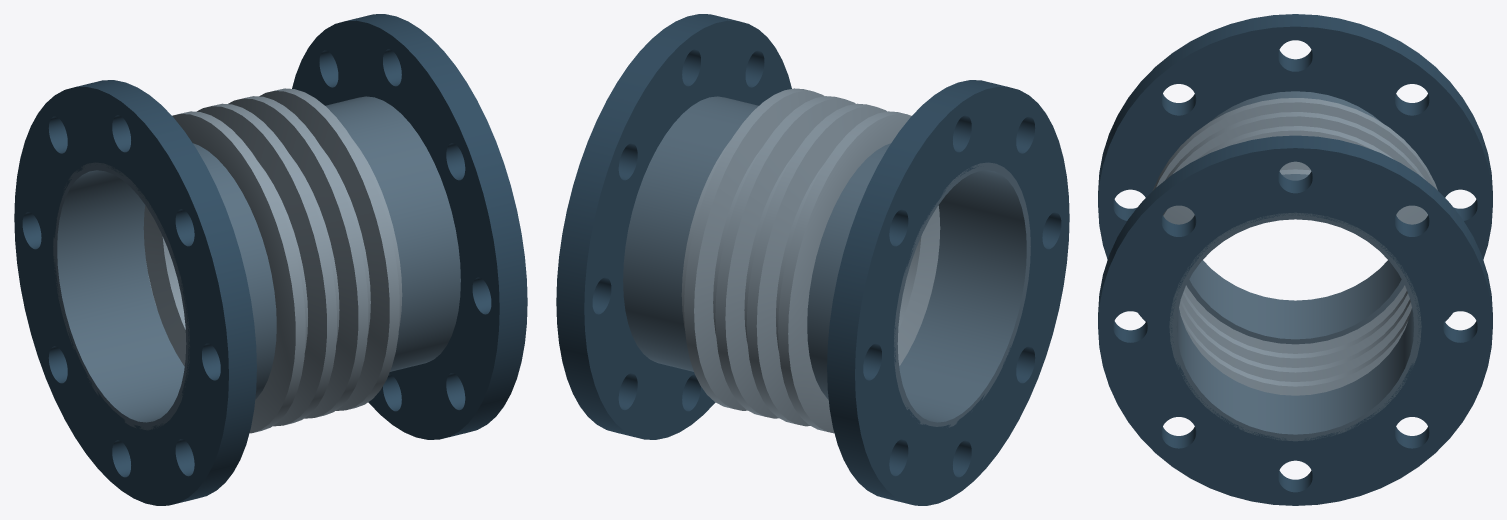
The model's file is flan-dn150-L200-D159-f.glb.
The picture shows the model from 3 angles, left to right: view 1: azimuth 30°, elevation 25°; view 2: azimuth 150°, elevation 25°; view 3: azimuth 270°, elevation 25°; orthographic projection. The views are drawn at different scales.
Parts seen in each view (by area): view 1: homut_flanec_1, prokladka_silfon_1, homut_flanec_2, patrubok_1, patrubok_2; view 2: homut_flanec_1, prokladka_silfon_1, homut_flanec_2, patrubok_1, patrubok_2; view 3: homut_flanec_2, homut_flanec_1, prokladka_silfon_1, patrubok_2, patrubok_1.
Boxes of the visible parts, x1,y1,x2,y2 form: homut_flanec_1: (14,80,256,505); prokladka_silfon_1: (143,88,402,433); homut_flanec_2: (292,14,527,439); patrubok_1: (53,143,276,430); patrubok_2: (325,96,460,371); homut_flanec_1: (827,80,1069,505); prokladka_silfon_1: (681,88,940,433); homut_flanec_2: (556,14,791,439); patrubok_1: (807,143,1030,427); patrubok_2: (623,96,758,371); homut_flanec_2: (1098,135,1492,505); homut_flanec_1: (1098,14,1492,321); prokladka_silfon_1: (1152,98,1437,395); patrubok_2: (1169,174,1421,441); patrubok_1: (1186,91,1404,344).
Size of the model in its own units: 200 by 249 by 249.
